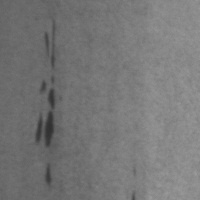inclusion: (33, 13, 59, 111), (31, 109, 60, 151), (41, 160, 57, 189)
